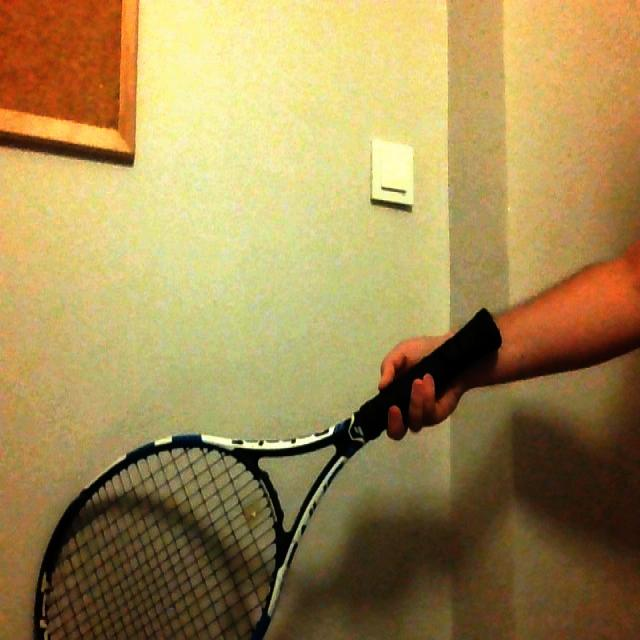TennisRacket: (34, 308, 497, 639)
